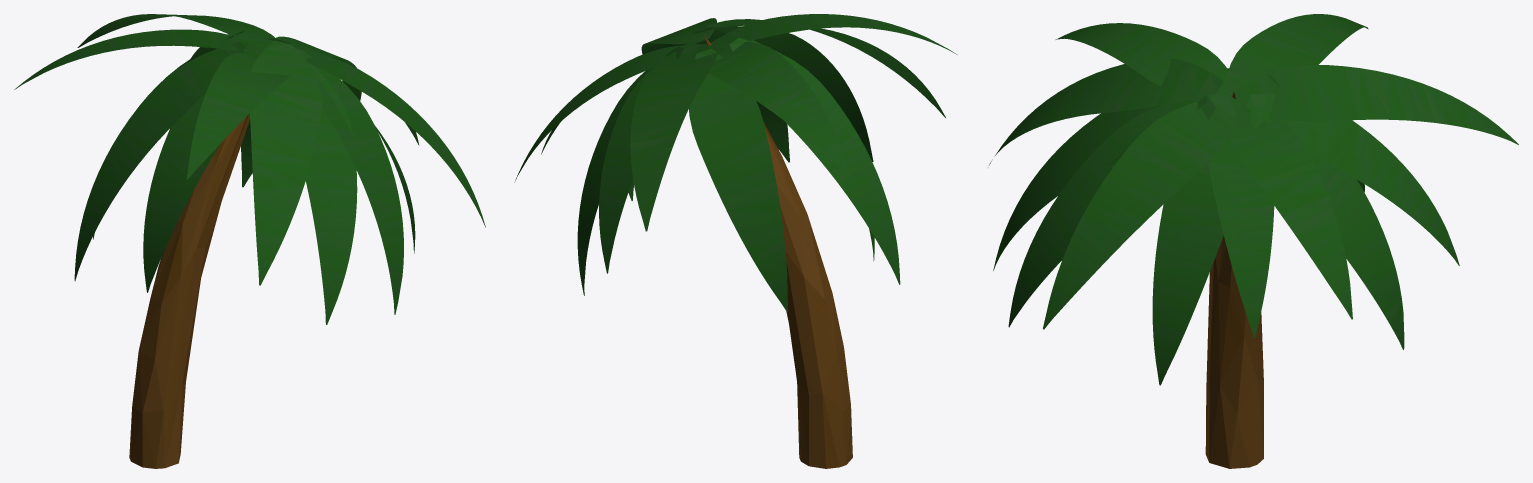
Rendered from palm v1.fbx.
The picture shows the model from 3 angles, left to right: view 1: azimuth 30°, elevation 25°; view 2: azimuth 150°, elevation 25°; view 3: azimuth 270°, elevation 25°; orthographic projection. The views are drawn at different scales.
Visible parts, largest first — view 1: Cylinder, Plane_9, Plane_12, Plane_8, Plane_7, Plane_11, Plane_10, Plane_6, Plane_13, Plane_15, Plane_2, Plane_3 (+1 smaller); view 2: Cylinder, Plane_14, Plane_15, Plane_13, Plane_12, Plane, Plane_8, Plane_10, Plane_2, Plane_3, Plane_9, Plane_6 (+1 smaller); view 3: Plane_6, Plane_15, Cylinder, Plane_3, Plane_5, Plane, Plane_4, Plane_7, Plane_9, Plane_2, Plane_13, Plane_10 (+1 smaller).
Part boxes in pixels (box(x1,y1,x2,y2)): Cylinder: box(129, 113, 250, 468); Plane_9: box(250, 40, 321, 285); Plane_12: box(74, 41, 245, 280); Plane_8: box(299, 52, 357, 324); Plane_7: box(297, 50, 403, 314); Plane_11: box(143, 93, 220, 292); Plane_10: box(186, 52, 289, 179); Plane_6: box(295, 48, 485, 227); Plane_13: box(14, 29, 263, 89); Plane_15: box(77, 14, 275, 49); Plane_2: box(241, 38, 295, 187); Plane_3: box(276, 36, 361, 100); Cylinder: box(704, 35, 852, 468); Plane_14: box(689, 48, 788, 311); Plane_15: box(630, 42, 717, 231); Plane_13: box(708, 42, 848, 173); Plane_12: box(729, 37, 900, 284); Plane: box(599, 44, 697, 273); Plane_8: box(705, 26, 873, 161); Plane_10: box(711, 14, 957, 54); Plane_2: box(577, 46, 683, 295); Plane_3: box(514, 44, 704, 182); Plane_9: box(705, 19, 945, 117); Plane_6: box(641, 18, 716, 54); Plane_6: box(1043, 94, 1241, 329); Plane_15: box(1230, 65, 1518, 144); Cylinder: box(1205, 92, 1263, 468); Plane_3: box(1229, 111, 1352, 319); Plane_5: box(1152, 135, 1230, 385); Plane: box(1246, 93, 1459, 265); Plane_4: box(1208, 139, 1274, 337); Plane_7: box(1008, 96, 1216, 327); Plane_9: box(989, 59, 1223, 165); Plane_2: box(1249, 104, 1404, 349); Plane_13: box(1225, 14, 1368, 95); Plane_10: box(1055, 23, 1228, 97).
Size of the model in its own units: 2317 by 2474 by 2705.
